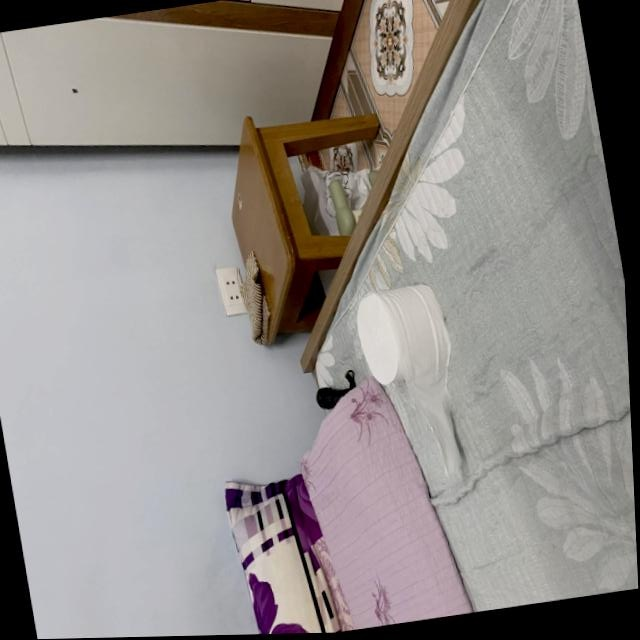outlet: (214, 266, 248, 319)
